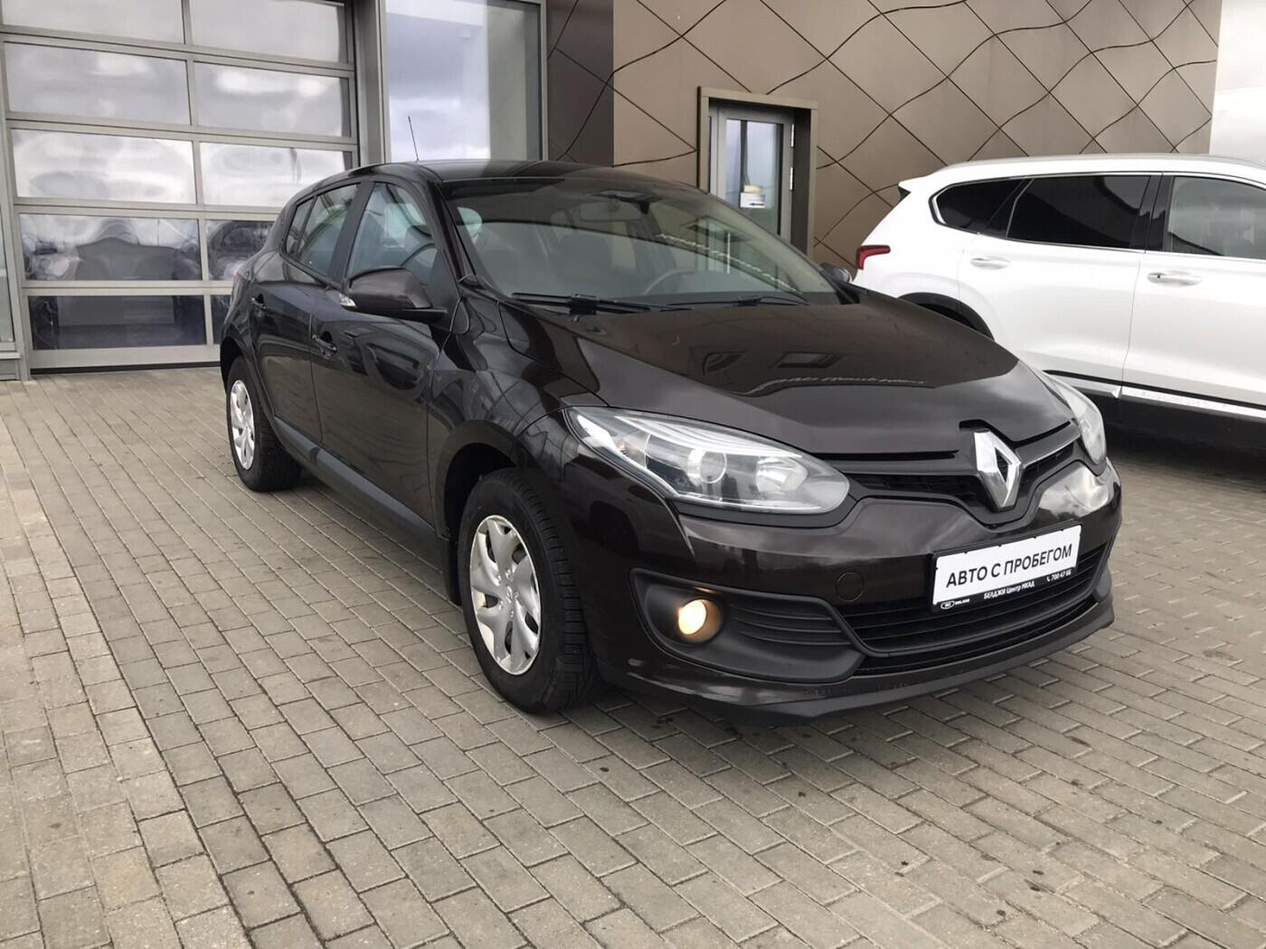Megane_2012-2014: (216, 152, 1120, 741)
